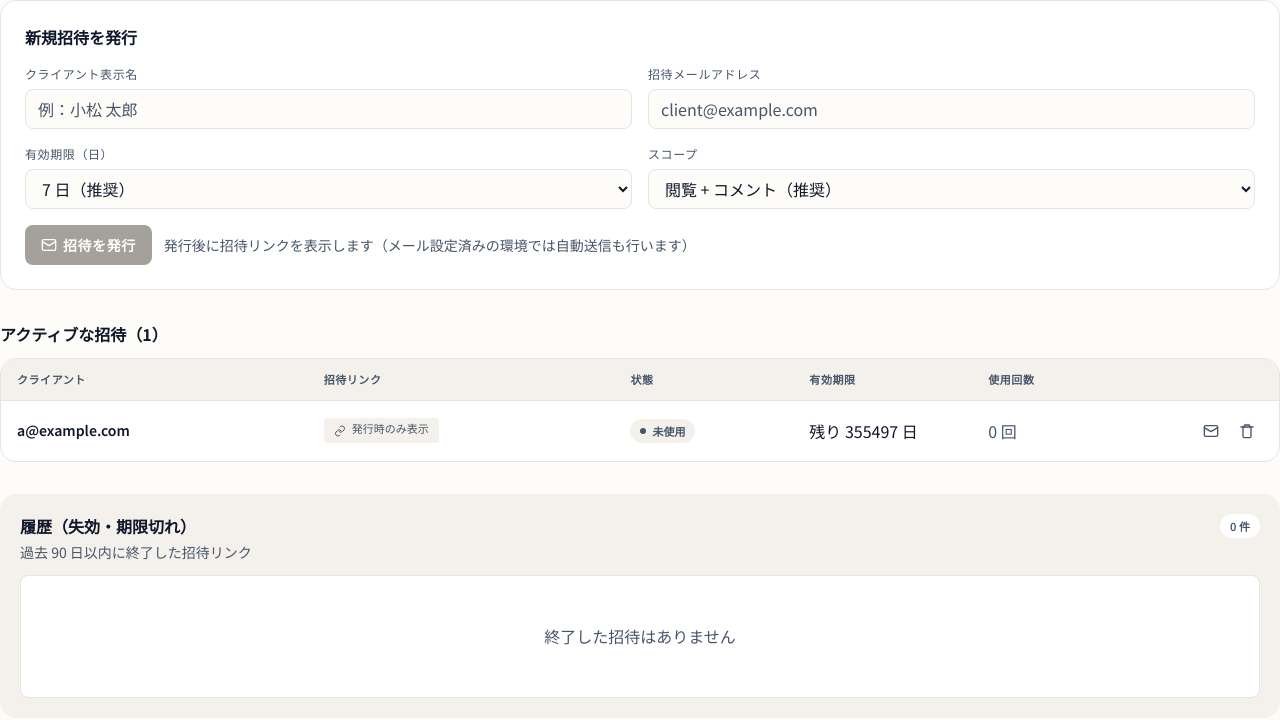
Test case: S-L01 InvitationsListContainer (T-UC-20) › issues an invitation and shows the one-time token banner
Expected: the text "a@example.com" is shown, [17,420,130,440]
Type "小松 太郎" into the field labelled "クライアント表示名" at x=328, y=109, box [25,89,632,129]
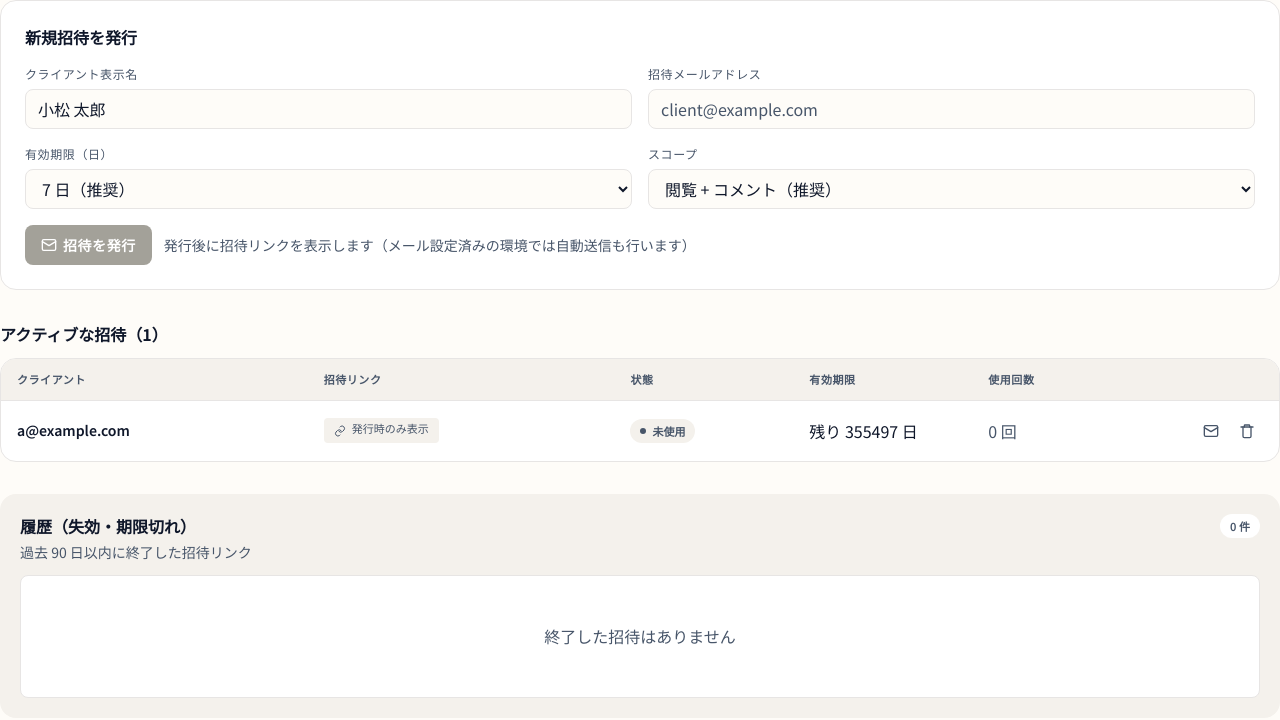
Type "new@example.com" into the field labelled "招待メールアドレス" at x=952, y=109, box [648,89,1255,129]
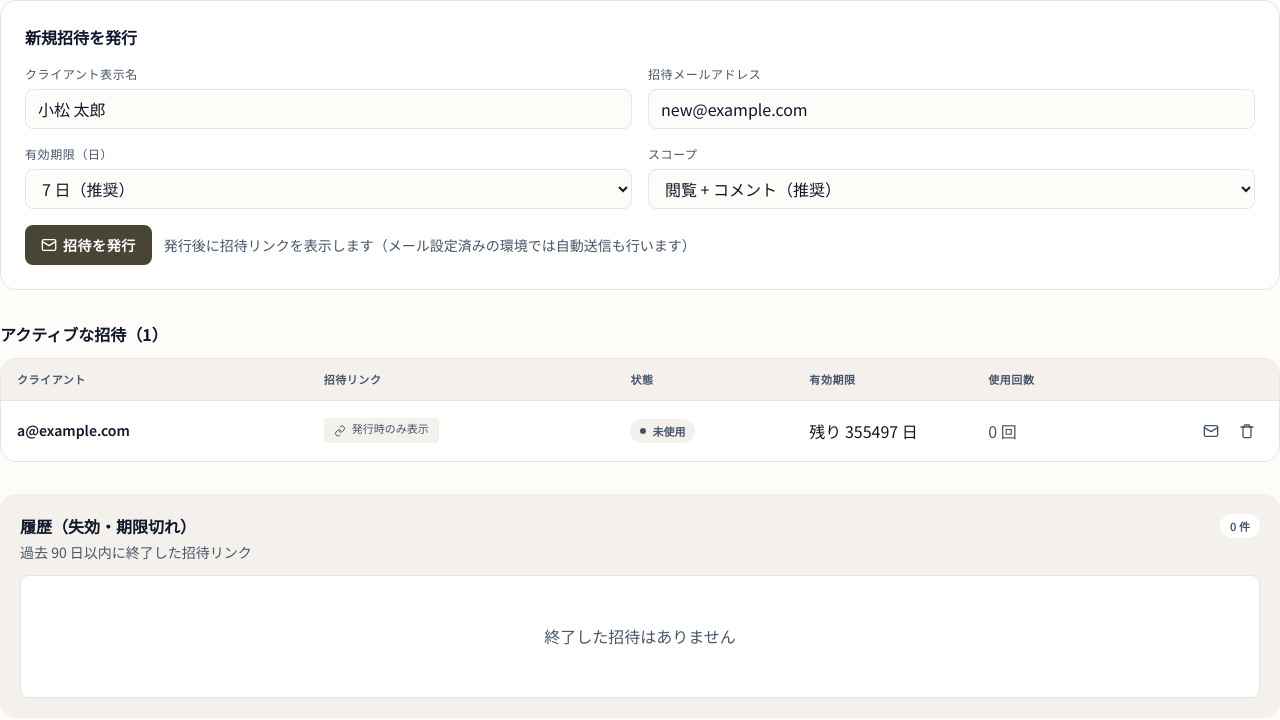
Click the button "招待を発行" at x=88, y=245, box [25,225,152,265]
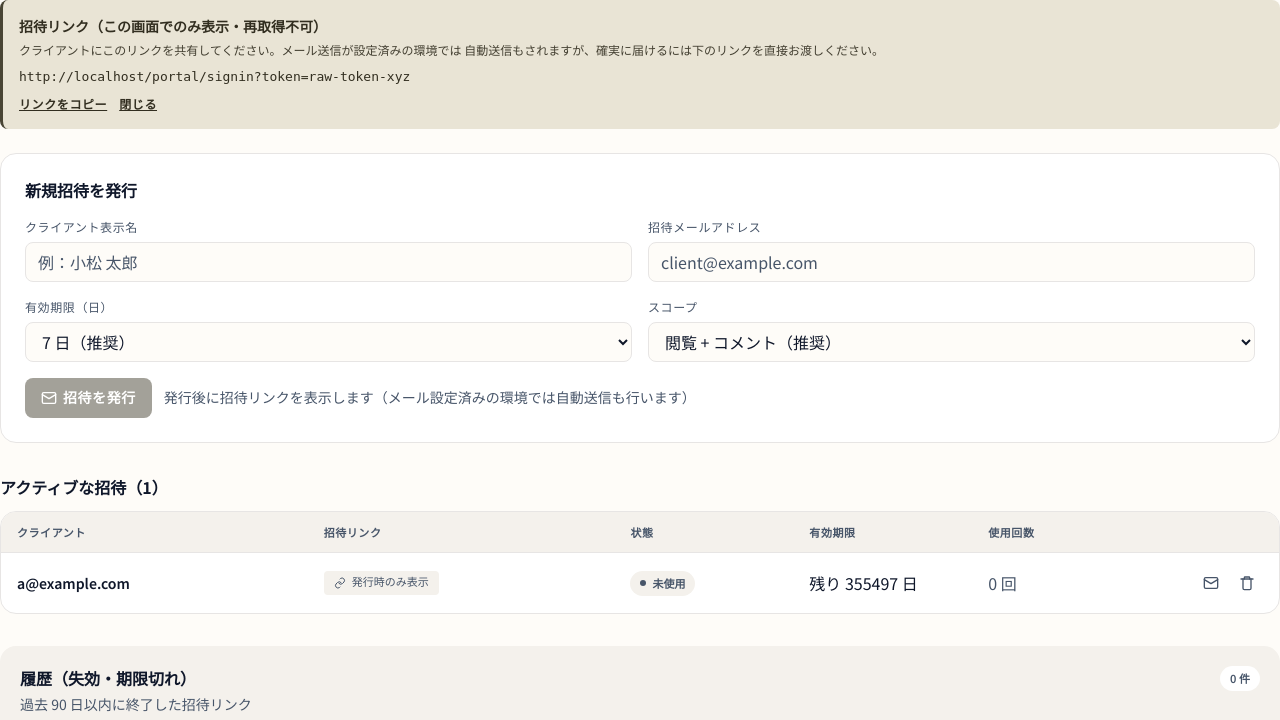
Expected: the button "リンクをコピー" is shown, [19,94,107,112]
